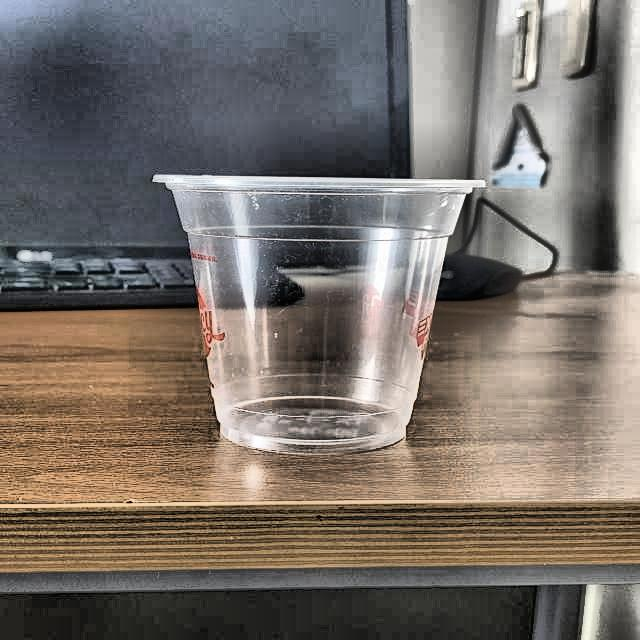plastic cup: (151, 172, 482, 455)
